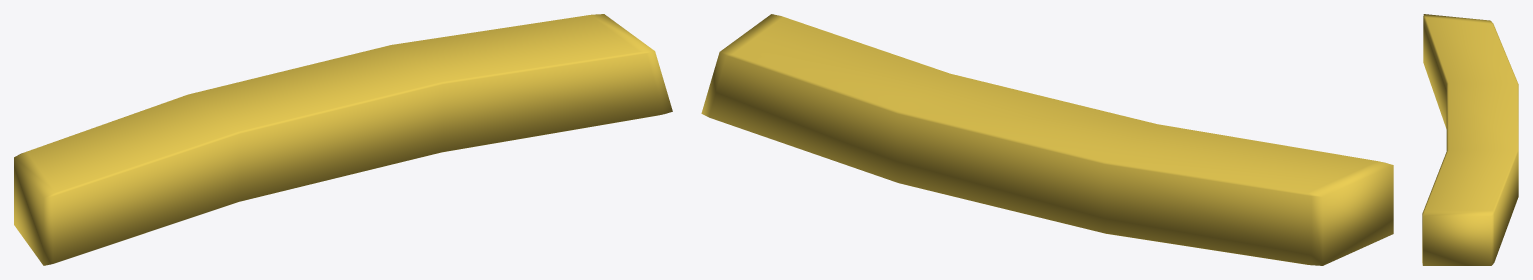
File: frenchFry.fbx
The picture shows the model from 3 angles, left to right: view 1: azimuth 30°, elevation 25°; view 2: azimuth 150°, elevation 25°; view 3: azimuth 270°, elevation 25°; orthographic projection. The views are drawn at different scales.
Parts seen in each view (by area): view 1: French Fry; view 2: French Fry; view 3: French Fry.
Part boxes in pixels (x1=…): French Fry: x1=14, y1=14, x2=672, y2=265; French Fry: x1=701, y1=14, x2=1393, y2=265; French Fry: x1=1422, y1=14, x2=1518, y2=265.
Size of the model in its own units: 167 by 17.91 by 32.68.
